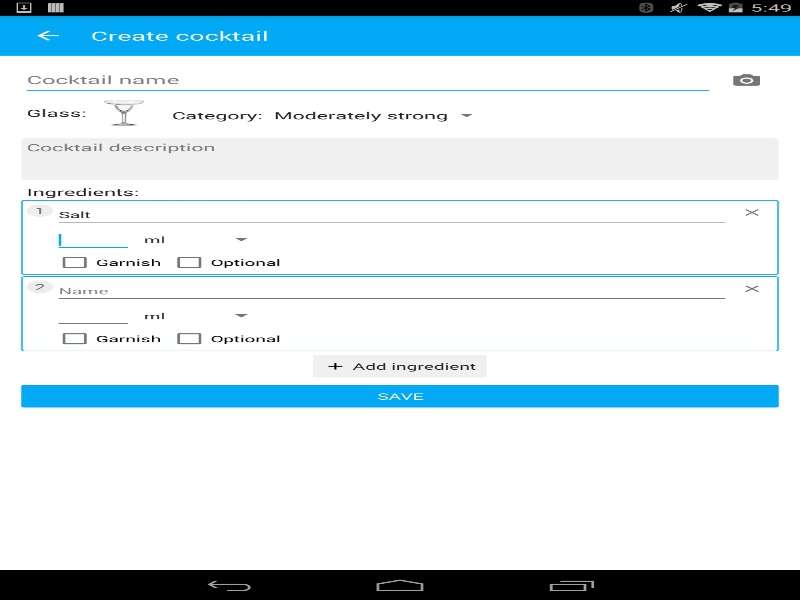Button: (21, 381, 778, 411), (307, 351, 492, 381), (10, 18, 85, 53), (714, 65, 778, 95), (92, 98, 156, 128), (730, 202, 773, 222), (730, 278, 773, 298)
Input: (21, 138, 778, 180), (21, 65, 714, 95), (53, 202, 730, 227), (53, 278, 730, 303), (53, 227, 133, 252), (53, 303, 133, 328)
